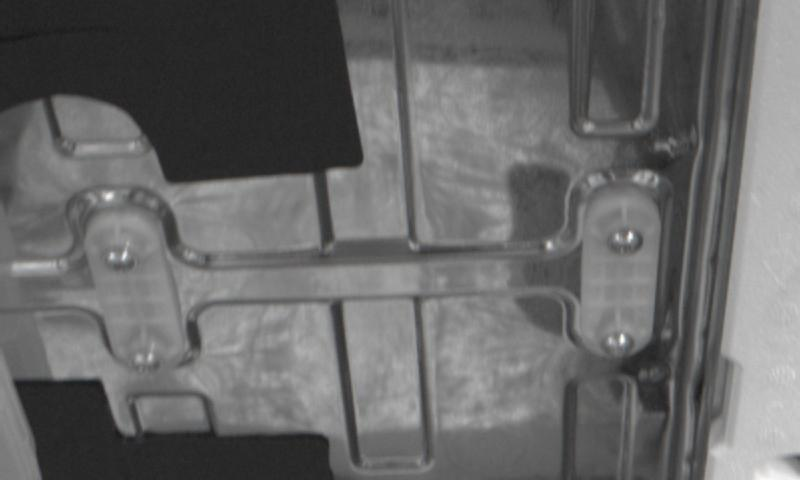vida-ok: (94, 236, 143, 282), (593, 323, 639, 364), (121, 340, 169, 379), (607, 219, 647, 263)
